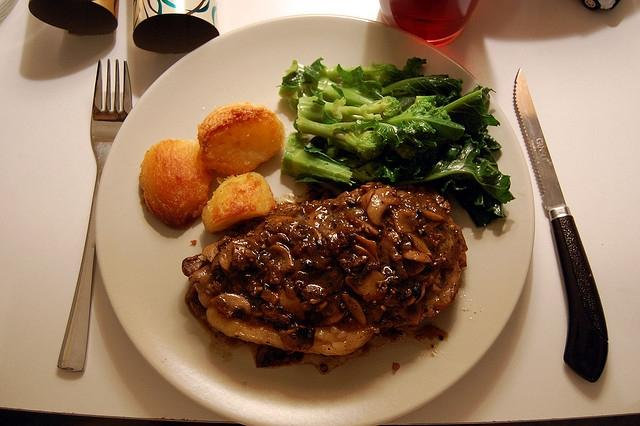mushroom: (346, 262, 388, 304), (366, 188, 402, 228), (210, 294, 252, 320), (320, 229, 356, 258), (322, 296, 348, 326), (342, 294, 366, 326), (393, 209, 418, 237), (182, 253, 207, 277), (354, 234, 377, 257), (218, 242, 236, 271), (302, 284, 328, 304), (355, 244, 378, 263), (403, 250, 432, 262), (422, 208, 446, 222), (267, 232, 289, 246)
potato: (139, 138, 214, 230), (198, 101, 285, 176), (202, 172, 276, 234)
